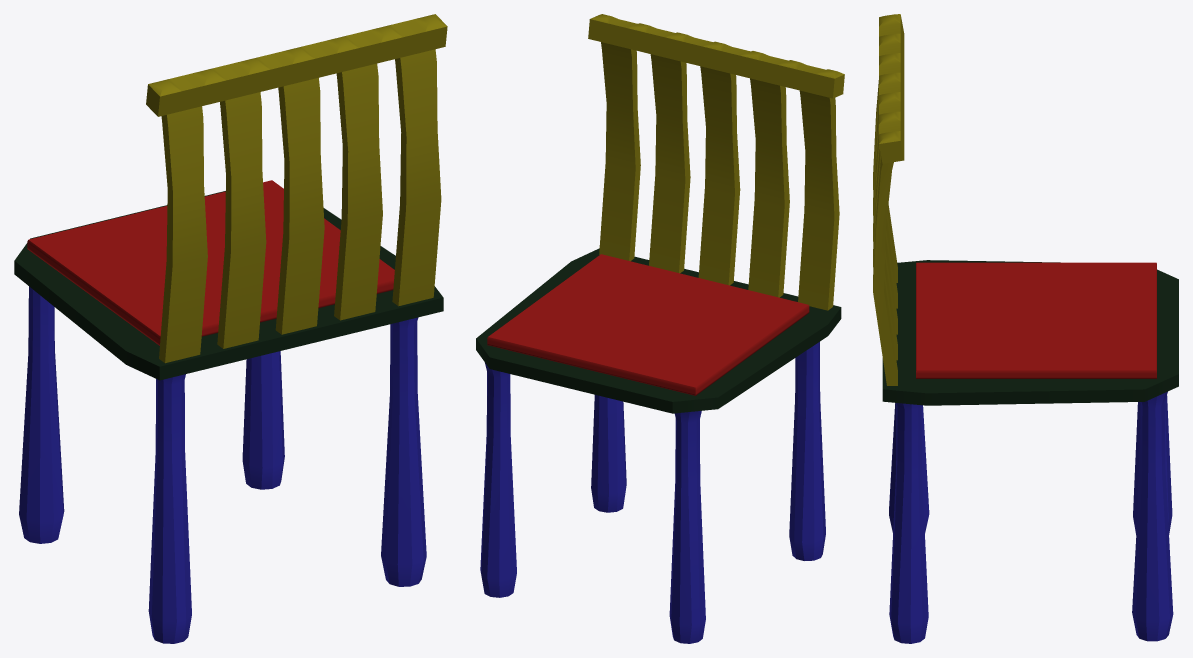
Rendered from Chair_Retex.obj.
3 views of the same model, side by side, from view 1: azimuth 30°, elevation 25°; view 2: azimuth 150°, elevation 25°; view 3: azimuth 270°, elevation 25° (orthographic). The views are drawn at different scales.
Parts seen in each view (by area): view 1: ChairSeat Back4 Back2 Back3 Back1 pCube5, ChairSeat Leg2 Leg1 Leg4 Leg3, ChairSeat ChairCusion, ChairSeat, ChairSeat ChairTop; view 2: ChairSeat Back4 Back2 Back3 Back1 pCube5, ChairSeat ChairCusion, ChairSeat Leg2 Leg1 Leg4 Leg3, ChairSeat, ChairSeat ChairTop; view 3: ChairSeat ChairCusion, ChairSeat Leg2 Leg1 Leg4 Leg3, ChairSeat, ChairSeat Back4 Back2 Back3 Back1 pCube5, ChairSeat ChairTop.
Boxes of the visible parts, <box> form: ChairSeat Back4 Back2 Back3 Back1 pCube5: <box>159,49,441,363</box>; ChairSeat Leg2 Leg1 Leg4 Leg3: <box>19,286,426,643</box>; ChairSeat ChairCusion: <box>27,180,394,345</box>; ChairSeat: <box>14,191,443,380</box>; ChairSeat ChairTop: <box>146,14,447,116</box>; ChairSeat Back4 Back2 Back3 Back1 pCube5: <box>599,42,839,310</box>; ChairSeat ChairCusion: <box>487,254,809,395</box>; ChairSeat Leg2 Leg1 Leg4 Leg3: <box>480,342,825,643</box>; ChairSeat: <box>476,248,841,413</box>; ChairSeat ChairTop: <box>588,14,844,98</box>; ChairSeat ChairCusion: <box>916,262,1156,378</box>; ChairSeat Leg2 Leg1 Leg4 Leg3: <box>889,391,1173,643</box>; ChairSeat: <box>882,260,1178,405</box>; ChairSeat Back4 Back2 Back3 Back1 pCube5: <box>873,80,897,385</box>; ChairSeat ChairTop: <box>879,14,904,163</box>.
Bounding box in the file's own units: 5.18 × 9.24 × 5.02.
